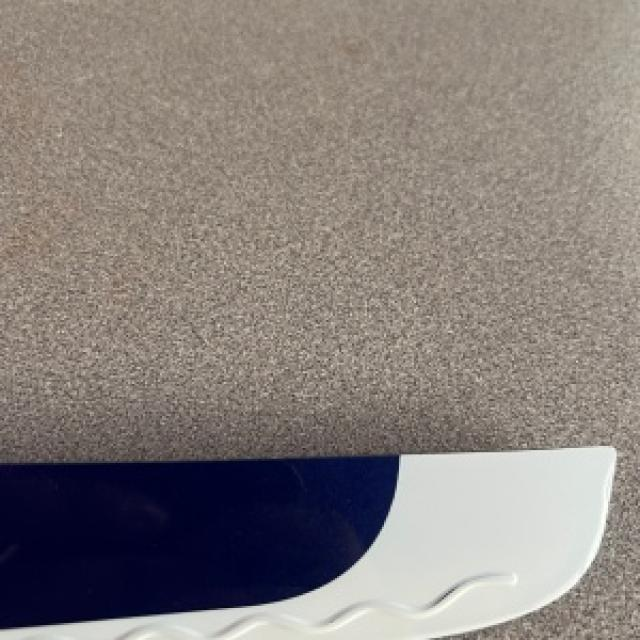healthy: (0, 446, 612, 638)
